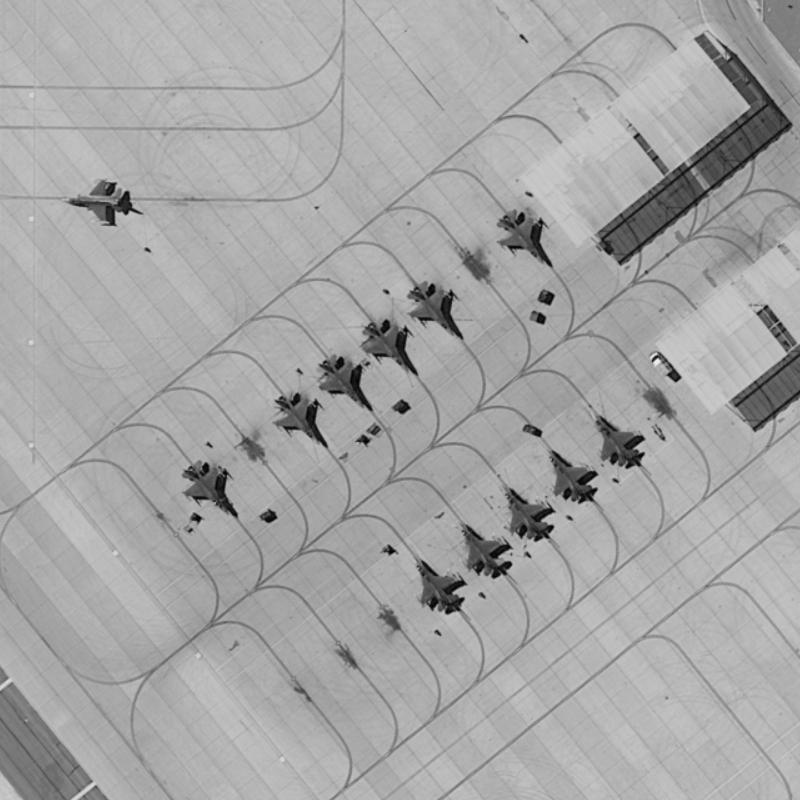A5: (492, 471, 562, 551), (535, 432, 603, 510), (397, 270, 469, 343), (580, 396, 647, 474), (173, 449, 242, 522), (486, 198, 557, 267), (60, 171, 141, 231), (449, 508, 514, 582), (407, 542, 466, 621), (353, 313, 423, 379), (309, 344, 371, 414), (268, 380, 325, 450)
